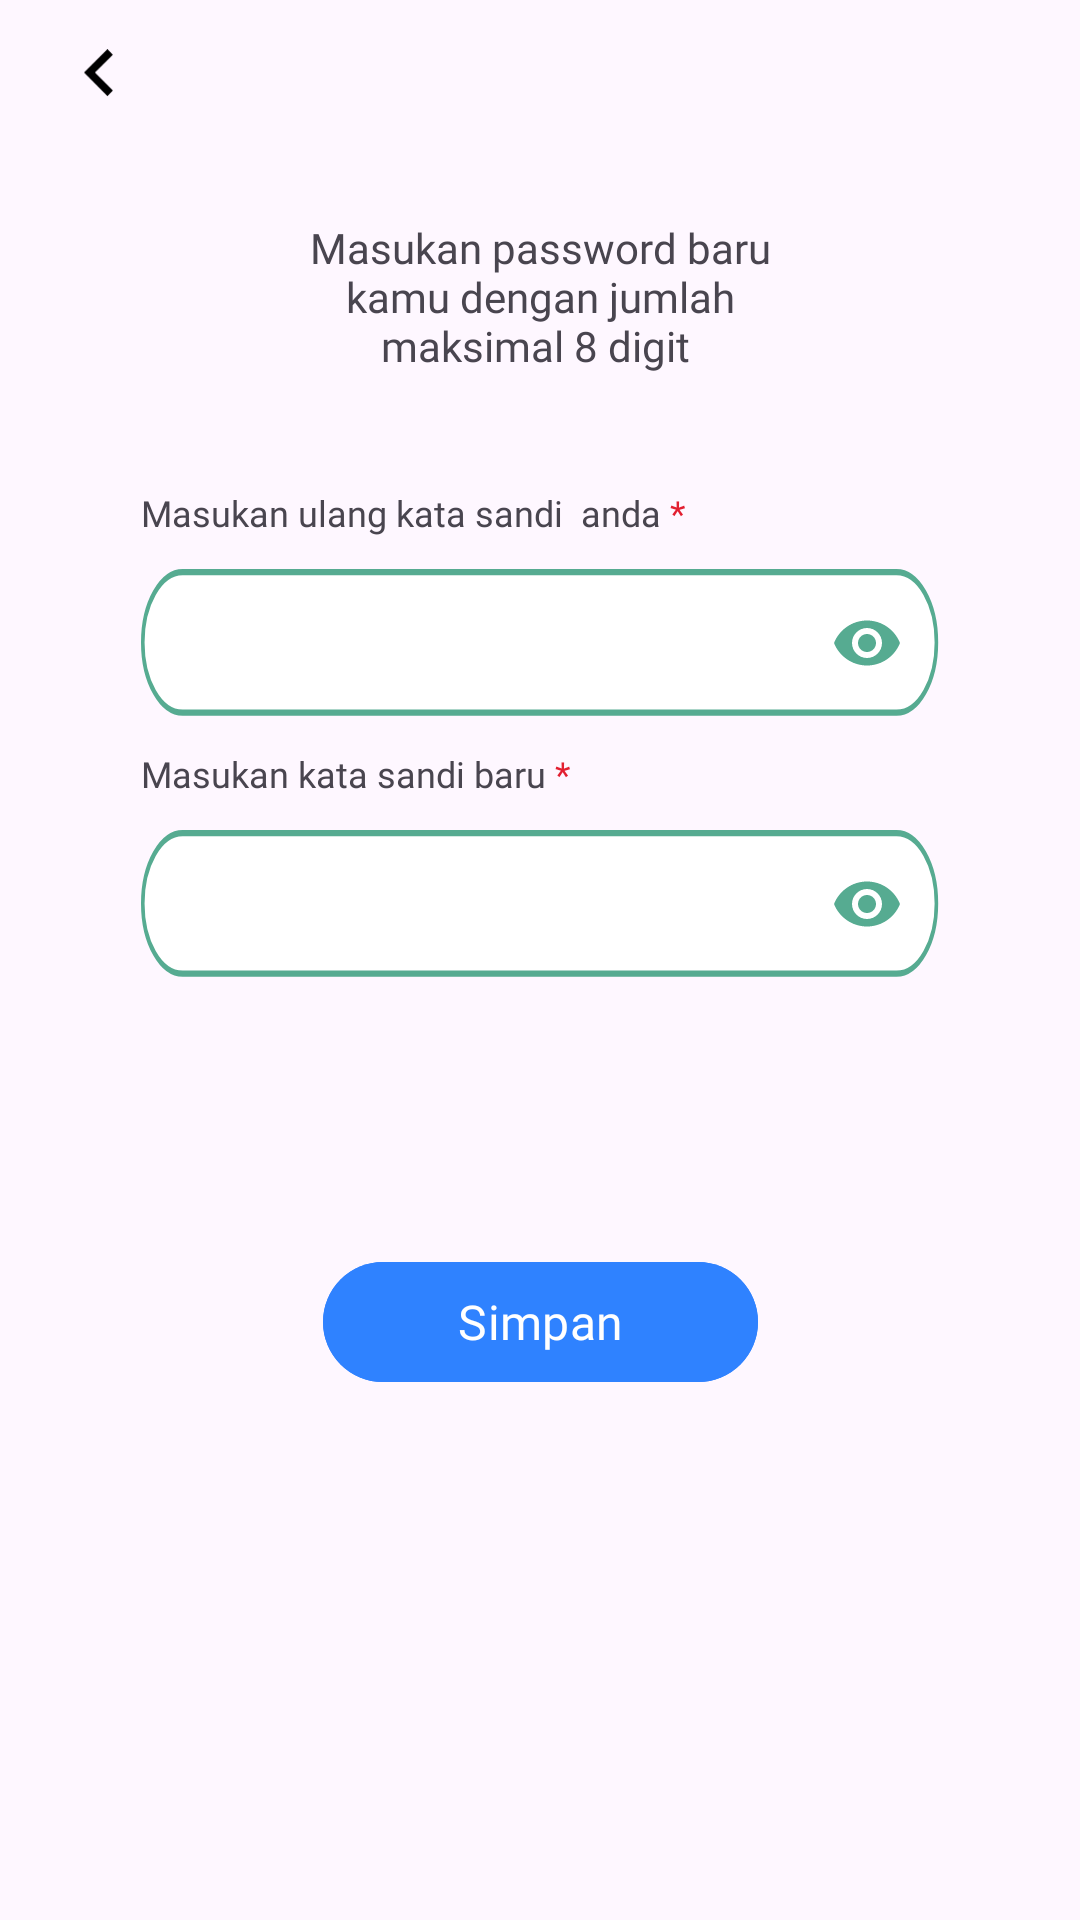

Screen size 1080 x 1920. Icon name, then its center in pixels as (x,y):
back hitam: (98,72)
